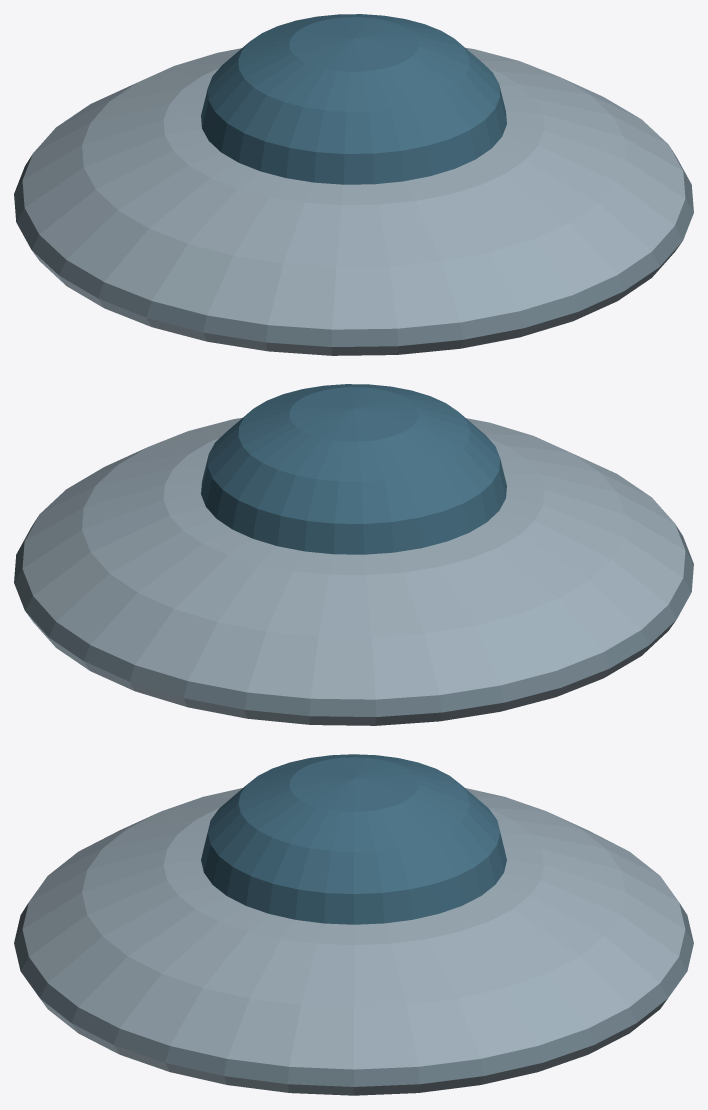
File: NEW_RECOVERY_076_LOD1.fbx
The picture shows the model from 3 angles, top to bottom: view 1: azimuth 30°, elevation 25°; view 2: azimuth 150°, elevation 25°; view 3: azimuth 270°, elevation 25°; orthographic projection.
Visible parts, largest first — view 1: UFO_fictional_solid_prop; view 2: UFO_fictional_solid_prop; view 3: UFO_fictional_solid_prop.
Boxes of the visible parts, <box> form: UFO_fictional_solid_prop: <box>14,14,693,355</box>; UFO_fictional_solid_prop: <box>14,384,693,725</box>; UFO_fictional_solid_prop: <box>14,754,693,1095</box>.
Size of the model in its own units: 400 by 400 by 144.
